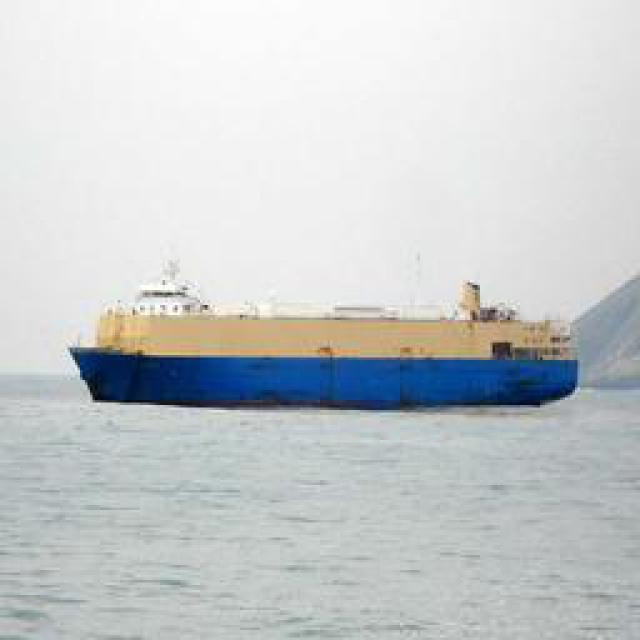Ship: (80, 276, 575, 411)
